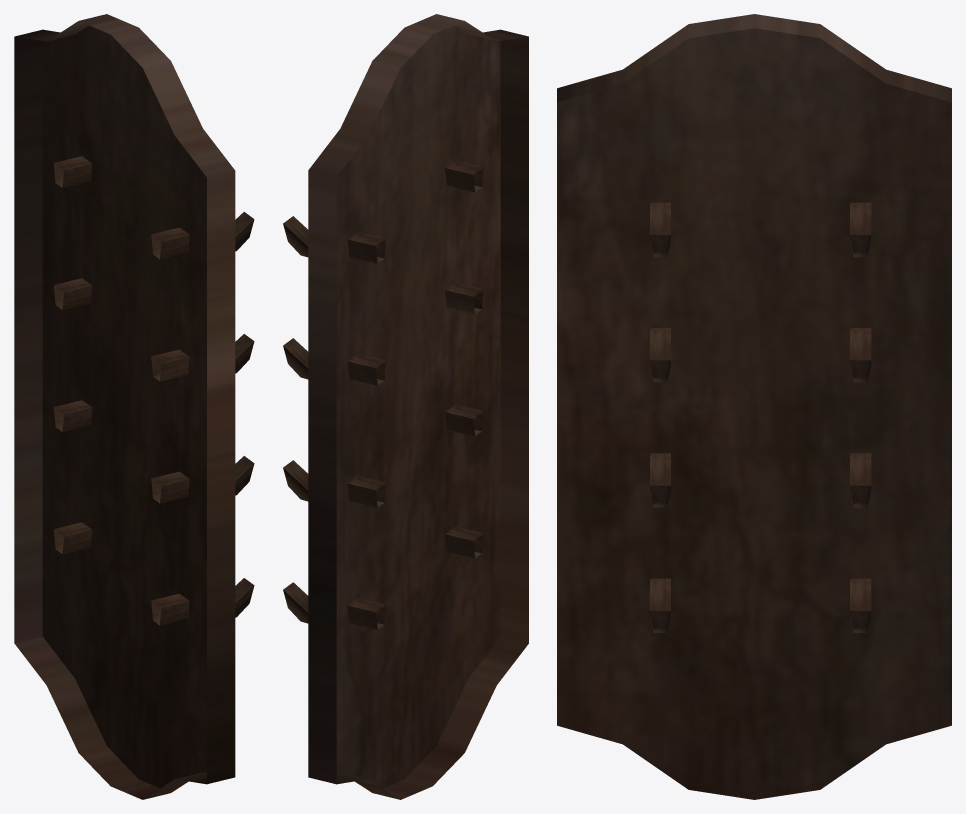
File: shop_weapons_rack_wall.fbx
The picture shows the model from 3 angles, left to right: view 1: azimuth 30°, elevation 25°; view 2: azimuth 150°, elevation 25°; view 3: azimuth 270°, elevation 25°; orthographic projection. The views are drawn at different scales.
Parts seen in each view (by area): view 1: pCube6, hook_01, hook_08, hook_06, hook_04, hook_02, hook_05, hook_07, hook_03; view 2: pCube6, hook_03, hook_07, hook_05, hook_02, hook_01, hook_04, hook_06, hook_08; view 3: pCube6, hook_07, hook_03, hook_02, hook_05, hook_08, hook_01, hook_04, hook_06.
Boxes of the visible parts, x1,y1,x2,y2 form: pCube6: [14, 14, 235, 799]; hook_01: [151, 578, 254, 625]; hook_08: [151, 212, 254, 259]; hook_06: [151, 334, 254, 381]; hook_04: [151, 456, 254, 503]; hook_02: [53, 400, 92, 431]; hook_05: [53, 278, 92, 309]; hook_07: [53, 156, 92, 187]; hook_03: [53, 522, 92, 553]; pCube6: [308, 14, 528, 799]; hook_03: [283, 582, 386, 629]; hook_07: [283, 216, 386, 263]; hook_05: [283, 338, 386, 385]; hook_02: [283, 460, 386, 507]; hook_01: [445, 526, 483, 558]; hook_04: [445, 404, 483, 436]; hook_06: [445, 282, 483, 314]; hook_08: [445, 160, 483, 192]; pCube6: [557, 14, 951, 799]; hook_07: [850, 202, 871, 257]; hook_03: [850, 578, 871, 632]; hook_02: [850, 453, 871, 507]; hook_05: [850, 328, 871, 382]; hook_08: [650, 202, 670, 257]; hook_01: [650, 578, 670, 632]; hook_04: [650, 453, 670, 507]; hook_06: [650, 328, 670, 382].
Bounding box in the file's own units: 55.78 × 431 × 200.
Materials: 1 (1 with a texture image).
